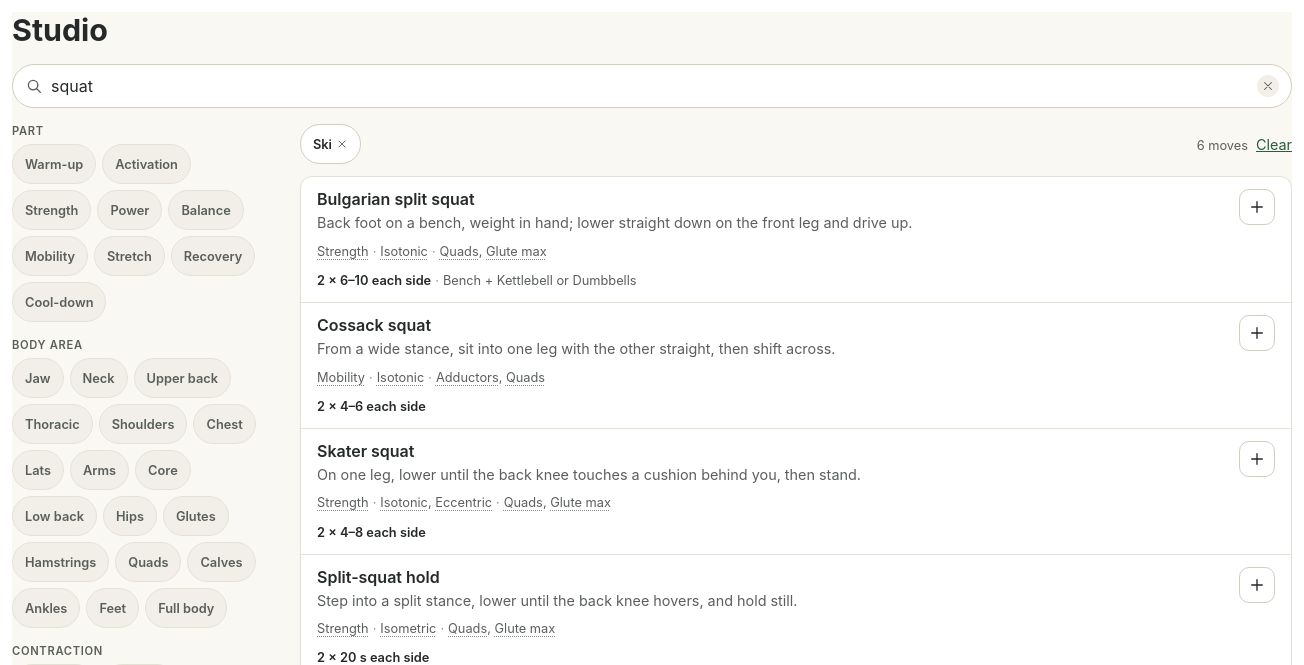
Test case: typing filters, live › Clear resets the chips and keeps the search, with focus in the field
Click the button "Clear". click: click(1274, 144)
box: [1256, 134, 1292, 155]
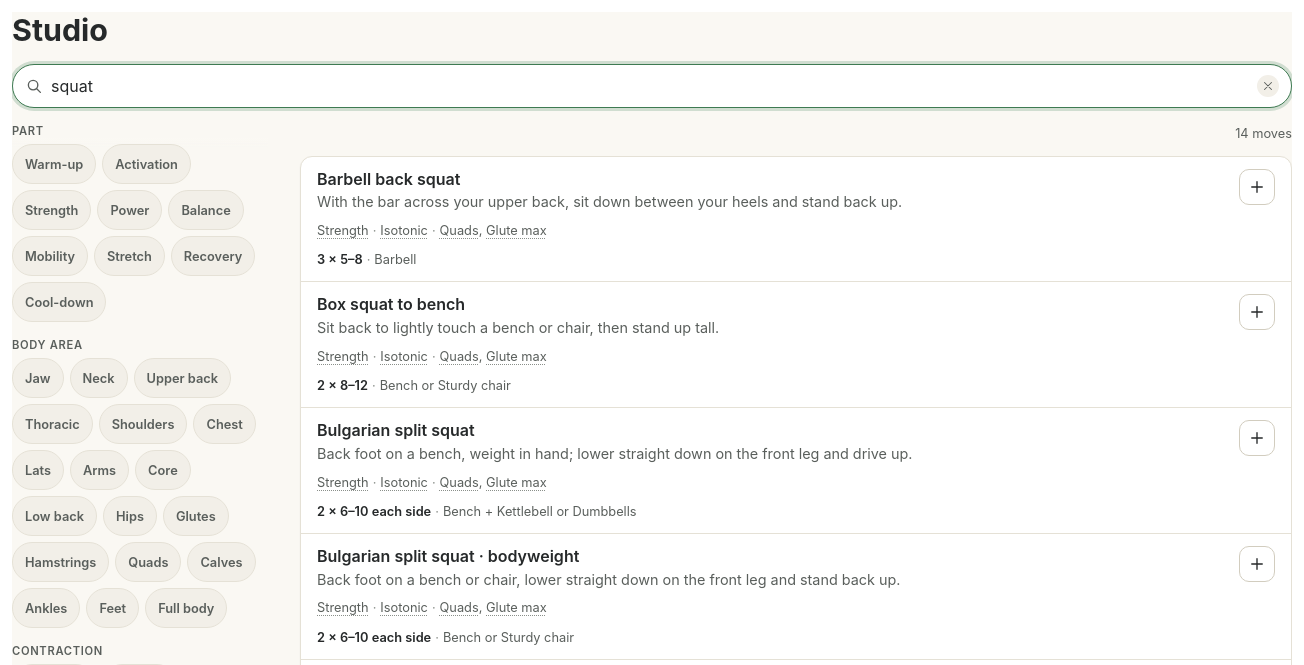
Expected: the search field holds "squat", [51, 66, 1249, 106]
Expected: the number of list items with class "stu-move" is 14
